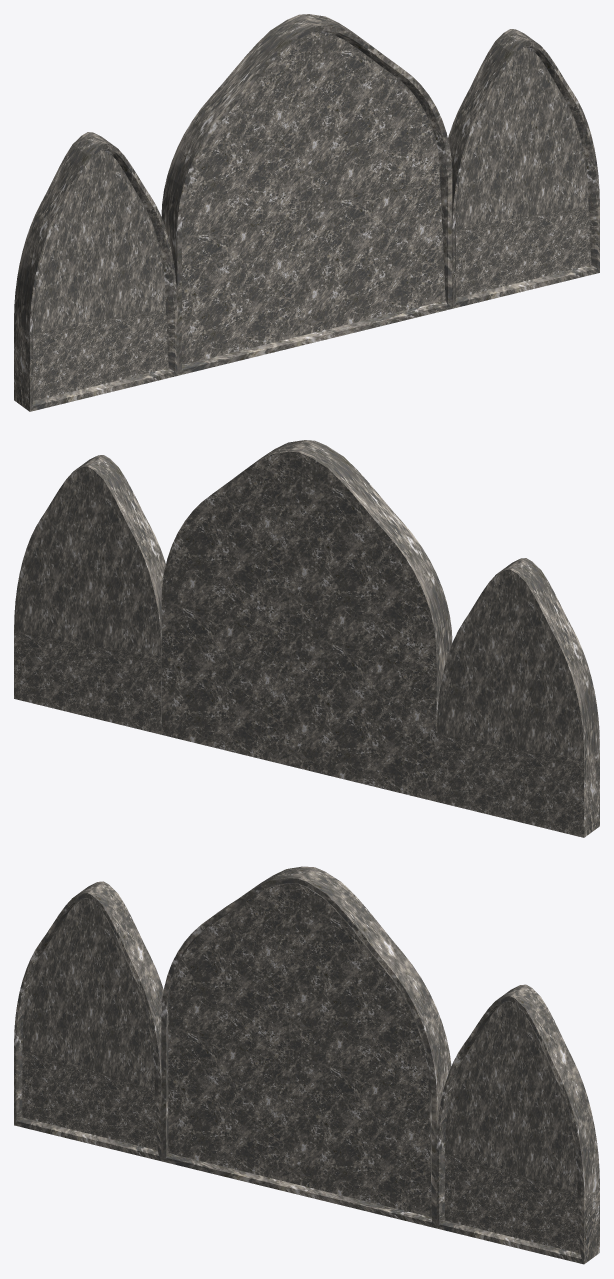
File: altar.fbx
The picture shows the model from 3 angles, top to bottom: view 1: azimuth 30°, elevation 25°; view 2: azimuth 150°, elevation 25°; view 3: azimuth 330°, elevation 25°; orthographic projection.
Parts seen in each view (by area): view 1: Cube.006, Cube.008, Cube.007; view 2: Cube.006, Cube.008, Cube.007; view 3: Cube.006, Cube.007, Cube.008.
Part boxes in pixels (x1,y1,x2,y2): Cube.006: (161, 14, 452, 375); Cube.008: (14, 132, 177, 411); Cube.007: (448, 29, 599, 308); Cube.006: (161, 440, 452, 801); Cube.008: (436, 558, 599, 837); Cube.007: (14, 455, 165, 734); Cube.006: (161, 866, 451, 1228); Cube.007: (436, 984, 599, 1264); Cube.008: (14, 881, 163, 1160).
Size of the model in its own units: 829 by 439 by 40.
